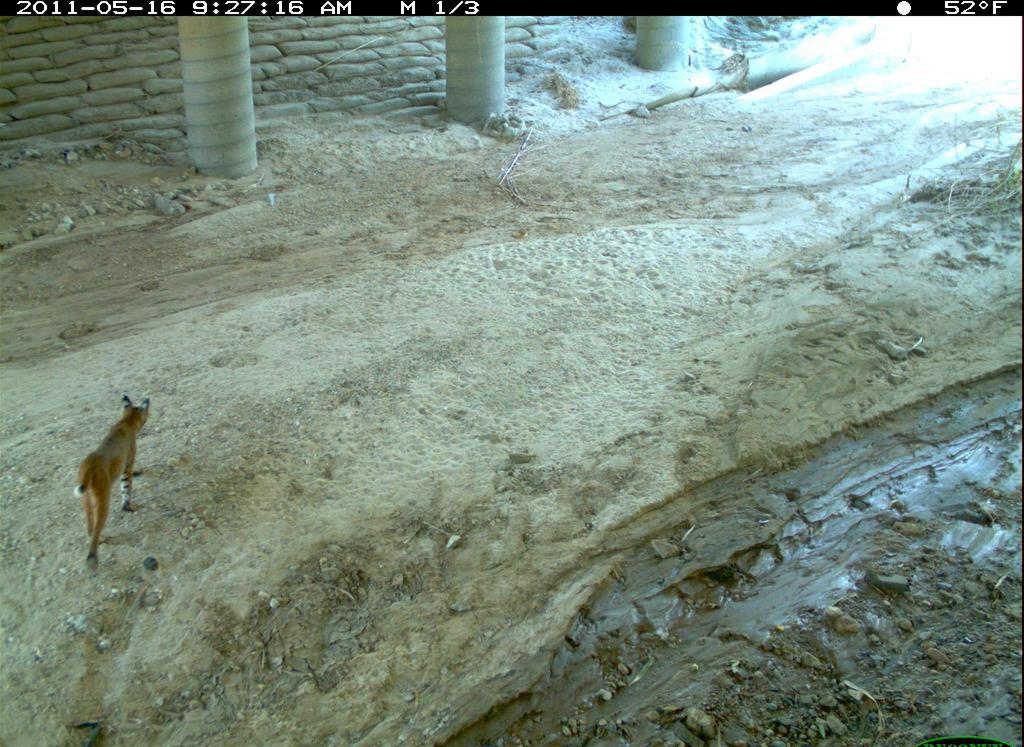bobcat: (75, 383, 166, 570)
